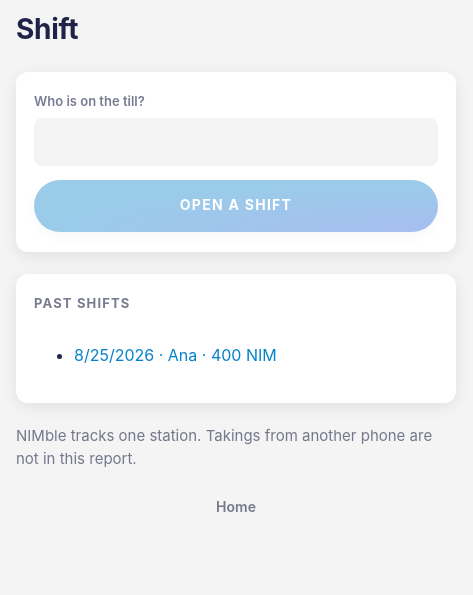
lets the vendor leave a viewed past shift and return to the open-a-shift form, without a remount
The width and height of the screenshot is (473, 595).
Step 1. Click the text "Ana" → point(183, 355), box [168,345,197,365]
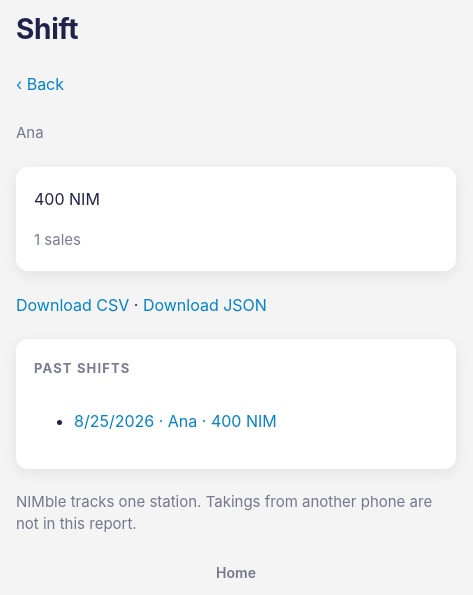
expect the 1st text "400 NIM" is shown: met, box [34,188,100,208]
Step 2. Click the link "‹ Back" → point(21, 84), box [16,74,64,94]
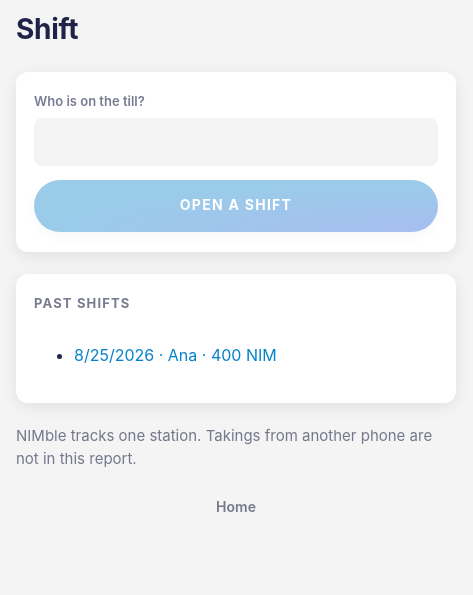
expect the button "Open a shift" is shown: met, box [34,180,438,232]
